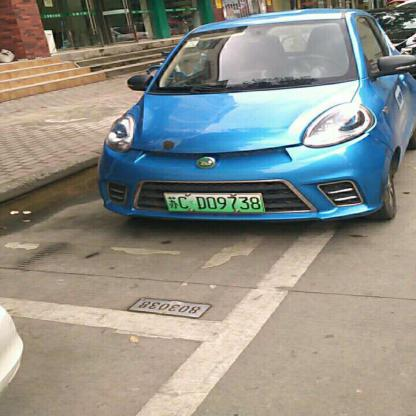lp: (164, 193, 263, 212)
